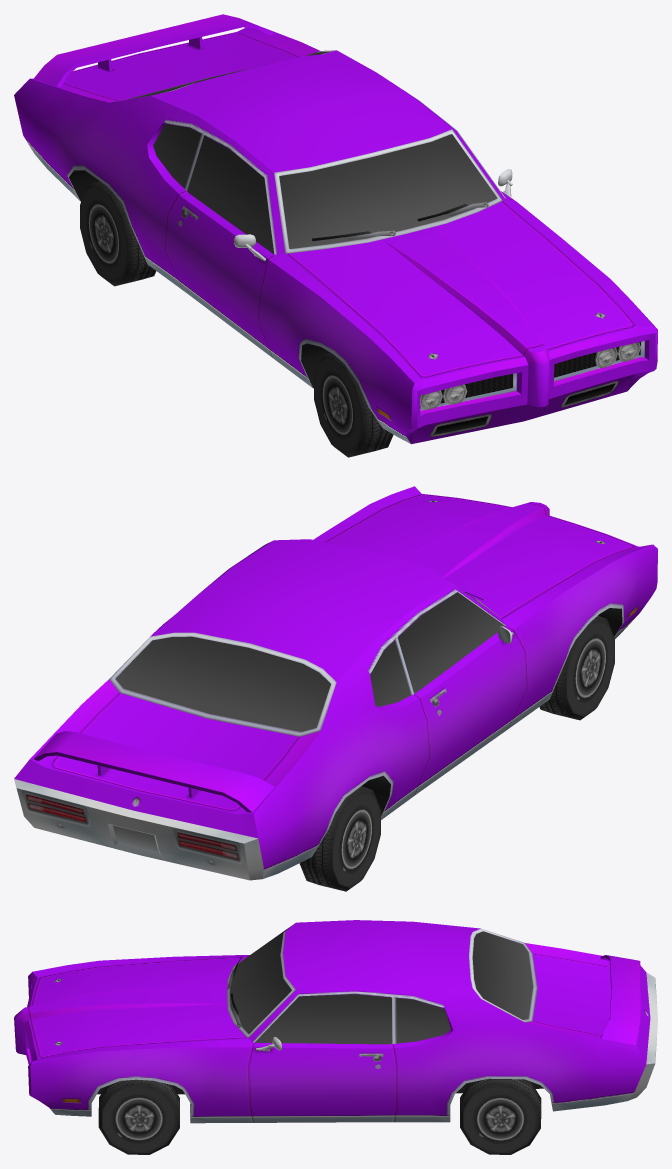
File: Classic_Muscle_Car.fbx
The picture shows the model from 3 angles, top to bottom: view 1: azimuth 30°, elevation 25°; view 2: azimuth 150°, elevation 25°; view 3: azimuth 270°, elevation 25°; orthographic projection. The views are drawn at different scales.
Parts seen in each view (by area): view 1: Chassis, RF_Wheel, RR_Wheel; view 2: Chassis, RR_Wheel, RF_Wheel; view 3: Chassis, LR_Wheel, LF_Wheel.
Part boxes in pixels (x1,y1,x2,y2): Chassis: (14, 14, 657, 444); RF_Wheel: (314, 353, 393, 457); RR_Wheel: (80, 181, 156, 286); Chassis: (14, 486, 657, 880); RR_Wheel: (299, 786, 381, 891); RF_Wheel: (539, 616, 614, 720); Chassis: (14, 920, 657, 1123); LR_Wheel: (460, 1078, 541, 1154); LF_Wheel: (98, 1079, 179, 1154).
Bounding box in the file's own units: 2.05 × 1.49 × 5.34.
2 materials, 2 textured.
